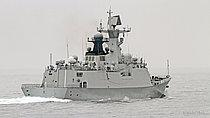MIL_Ship: (20, 7, 173, 101)
